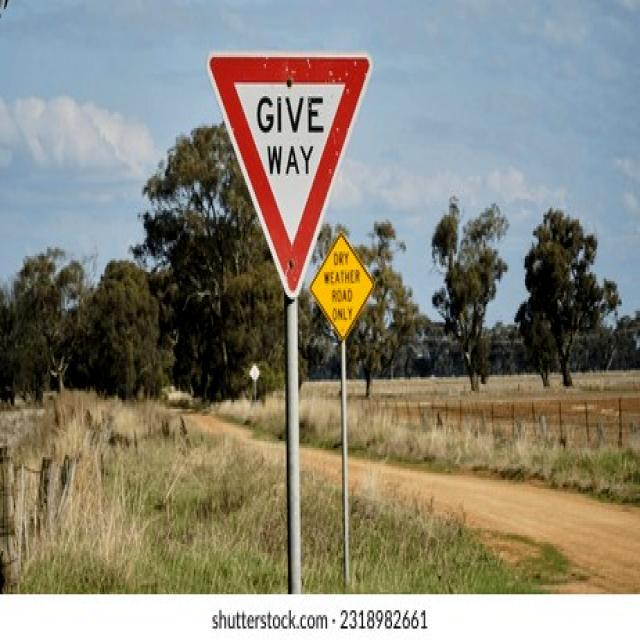Traffic sign: (202, 46, 394, 346)
